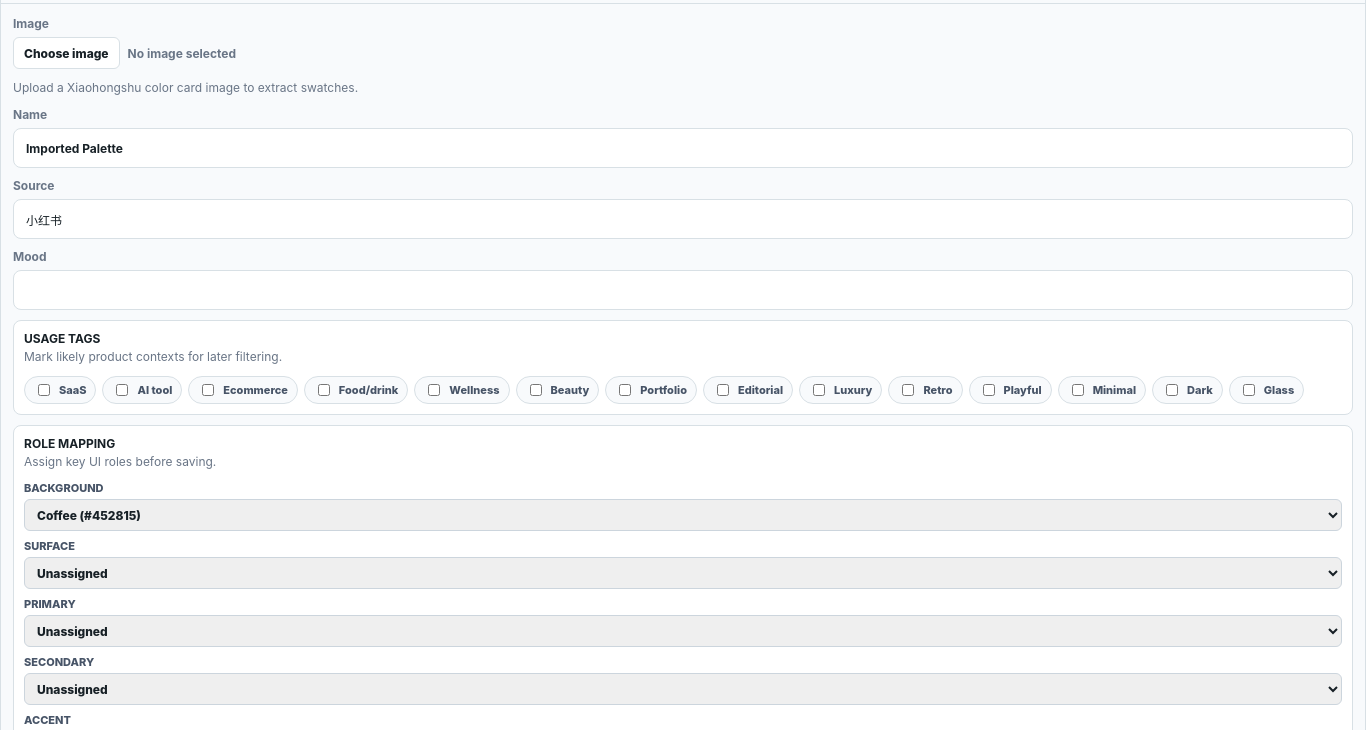
Test case: PaletteExtractor › shows recoverable save errors
Replace the text in the field named "Palette name" with "Coffee Foam" at point(683, 148), box [13,128,1353,168]
(page scrolled)
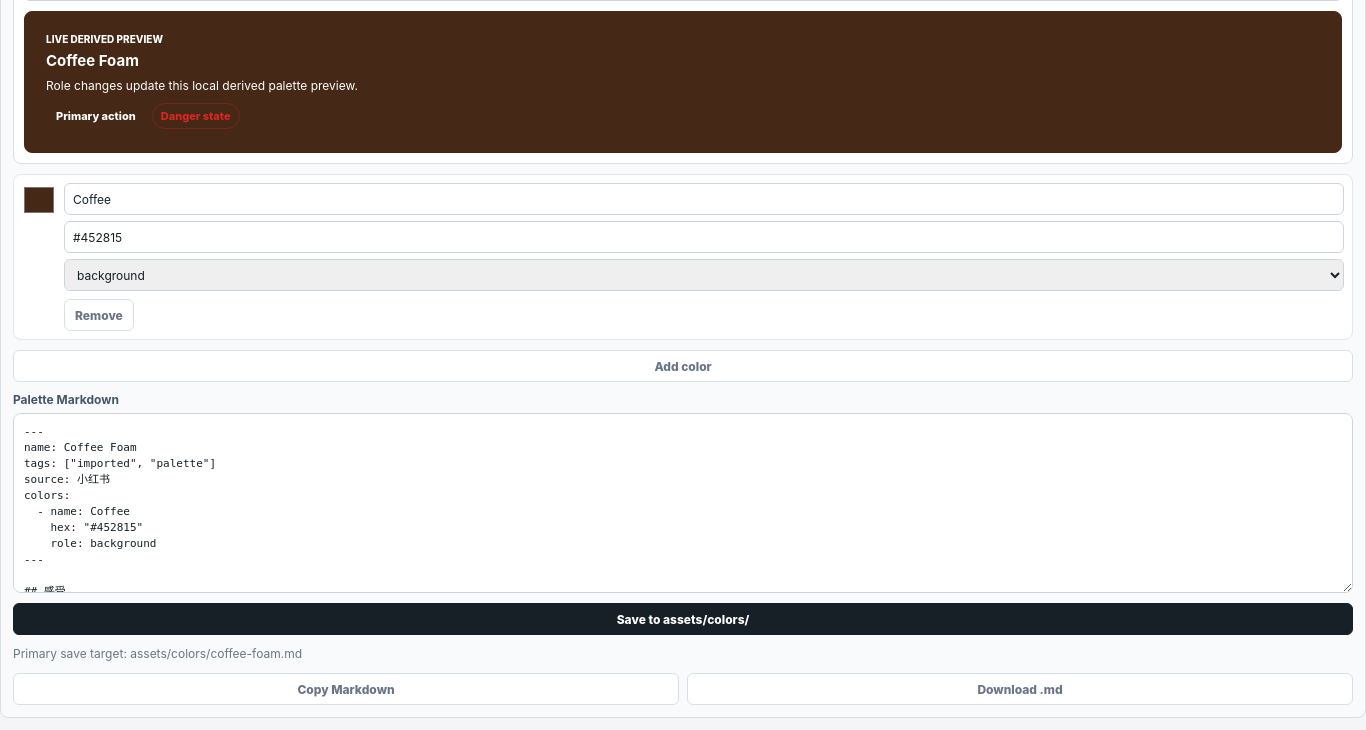
Click the button "Save to assets/colors/" at point(683, 619), box [13,603,1353,635]
(page scrolled)
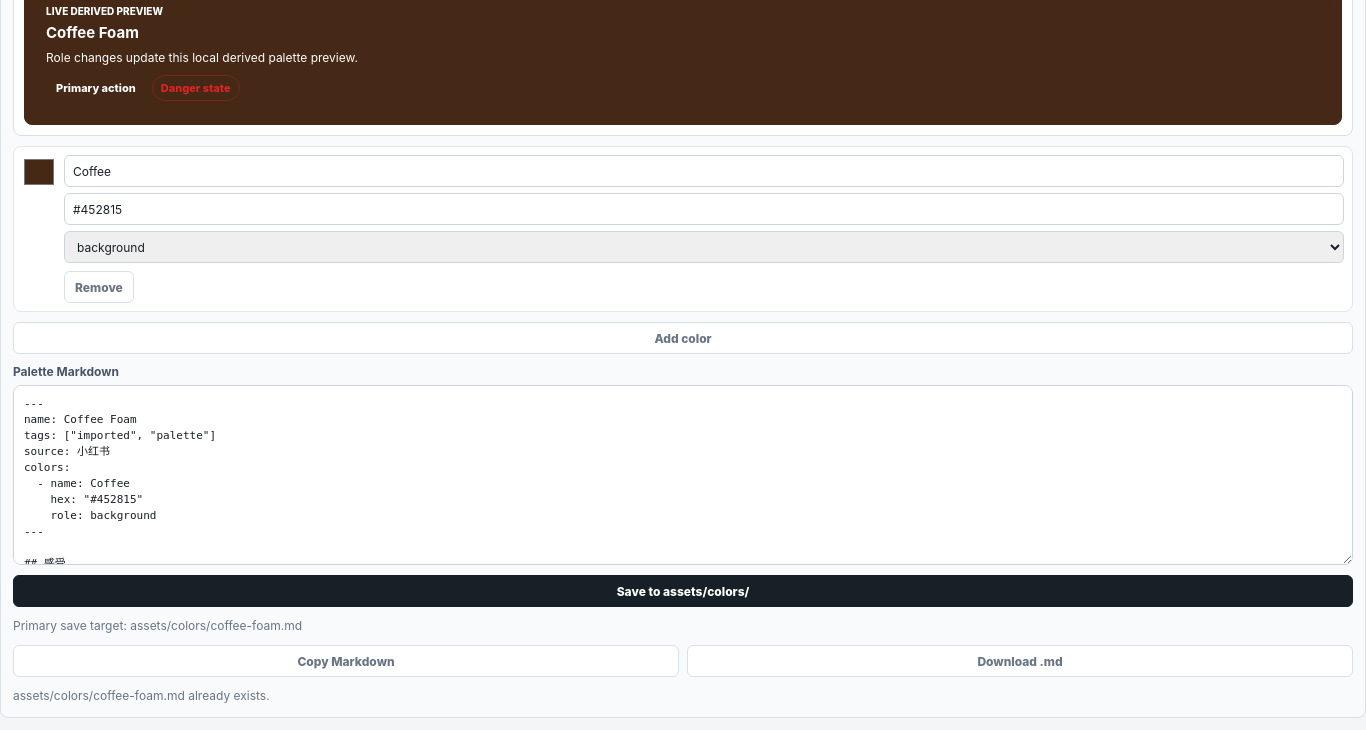
Now the text "assets/colors/coffee-foam.md already exists." is shown, box [13,688,270,703]
